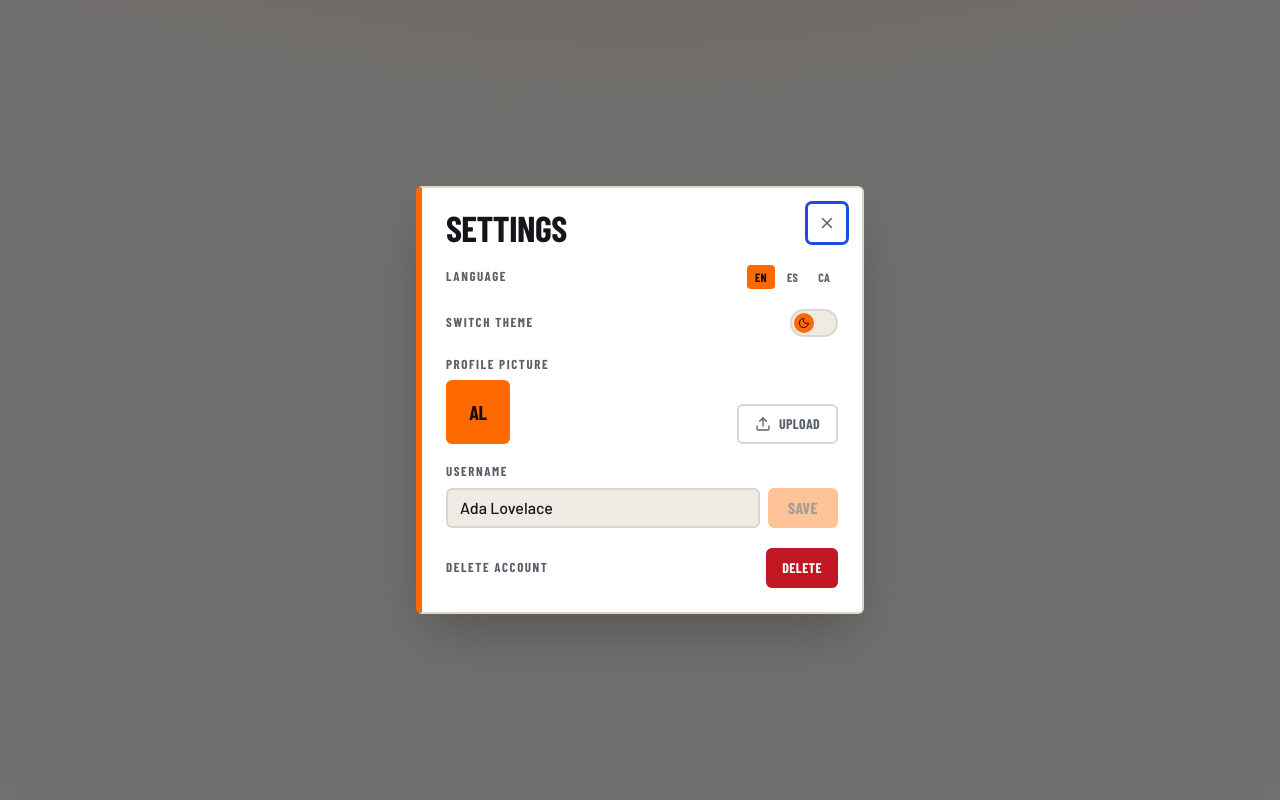
Scenario: SettingsModal username › rebuilds the monogram from the saved name
The width and height of the screenshot is (1280, 800).
Replace the text in the field named "Username" with "Grace Hopper". click: (603, 508)
box: [446, 488, 760, 528]
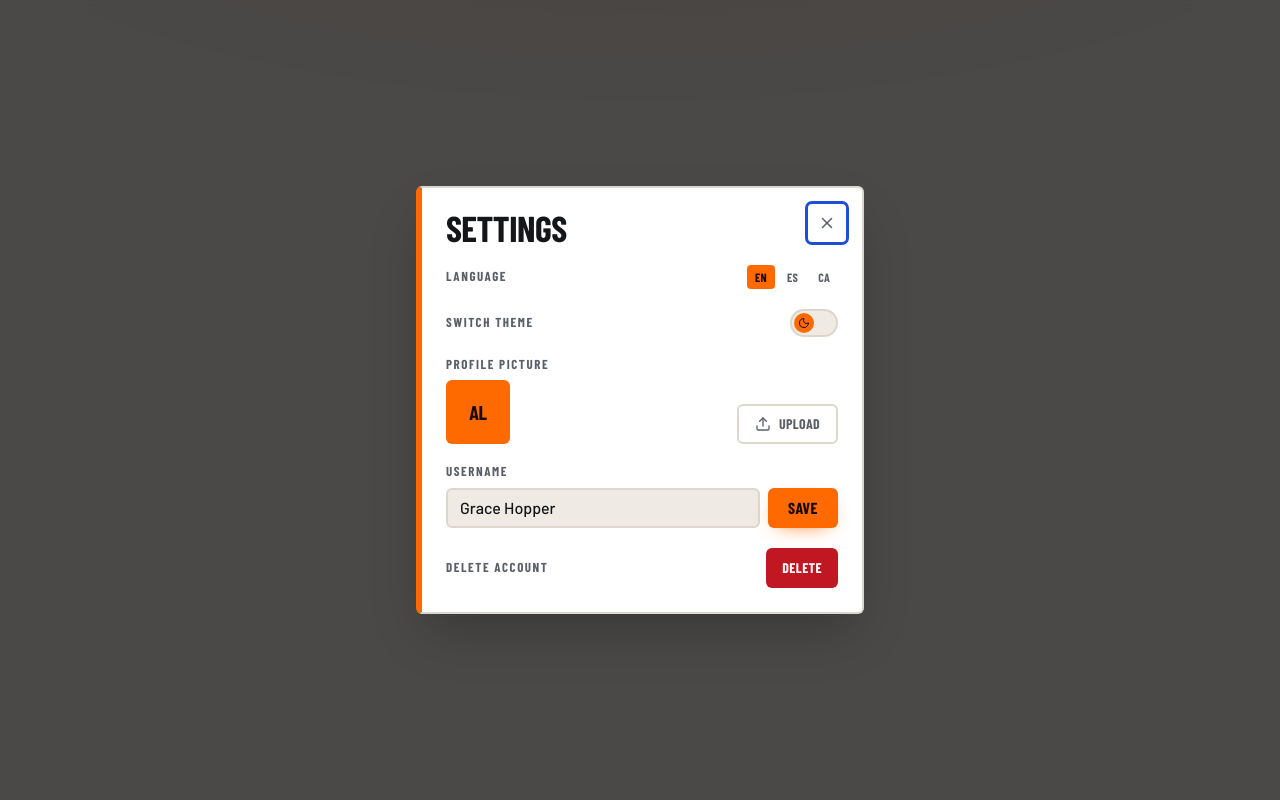
Click the button "Save". click: (803, 508)
box: [768, 488, 838, 528]
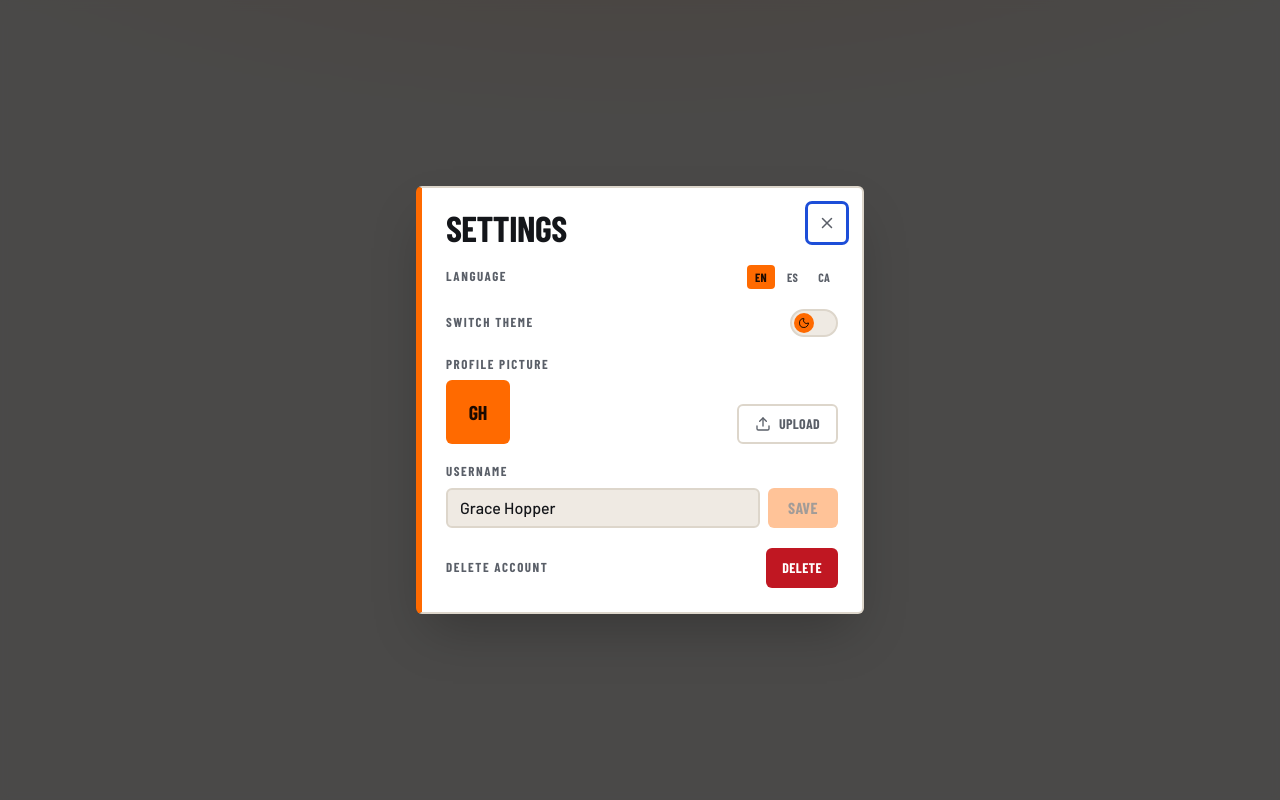
Now the text "GH" is shown, box [446, 380, 510, 444]
Now the text "AL" is gone
